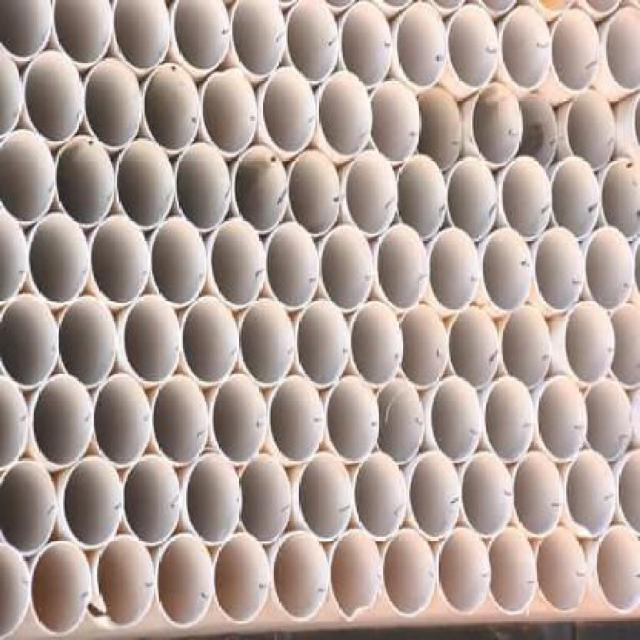pipe: (31, 375, 93, 468), (23, 51, 85, 144), (0, 294, 59, 391), (94, 536, 154, 630), (31, 542, 91, 636), (62, 457, 122, 550), (0, 458, 56, 556), (83, 58, 142, 151), (54, 136, 114, 227), (28, 214, 88, 305), (122, 456, 182, 547), (93, 375, 151, 468), (115, 139, 174, 230), (89, 216, 148, 307), (58, 297, 117, 388), (142, 63, 201, 154), (149, 217, 206, 310), (185, 454, 242, 547), (174, 143, 231, 234), (123, 296, 180, 387), (151, 376, 208, 467), (271, 531, 328, 622), (213, 534, 270, 625), (157, 534, 212, 628), (209, 219, 265, 310), (1, 129, 54, 225), (182, 297, 239, 386), (239, 300, 296, 388), (209, 375, 266, 463), (232, 146, 288, 234), (268, 375, 324, 463), (380, 531, 436, 619), (260, 68, 316, 156), (201, 69, 257, 157), (296, 299, 350, 390), (237, 454, 291, 545), (297, 453, 352, 542), (328, 529, 381, 620), (266, 222, 320, 311), (320, 225, 374, 314), (326, 375, 380, 463), (394, 3, 448, 91), (354, 452, 408, 540), (317, 73, 372, 159), (428, 375, 481, 463), (409, 452, 462, 540), (339, 2, 393, 88), (437, 530, 491, 616), (285, 0, 339, 85), (289, 151, 342, 237), (345, 151, 398, 237), (351, 302, 404, 388), (535, 528, 588, 614), (469, 84, 523, 168), (377, 225, 430, 310), (480, 228, 533, 313), (532, 228, 585, 313), (446, 5, 499, 90), (460, 452, 513, 537), (169, 0, 229, 75), (483, 375, 534, 463), (565, 449, 616, 537), (563, 302, 616, 385), (585, 226, 636, 312), (536, 377, 587, 463), (499, 5, 550, 91), (371, 80, 422, 166), (446, 157, 497, 242), (500, 306, 551, 391), (512, 451, 563, 536), (551, 9, 602, 94), (488, 528, 537, 616), (428, 228, 481, 309), (230, 0, 285, 78), (448, 306, 499, 389), (51, 0, 113, 68), (113, 0, 171, 72), (502, 155, 551, 240), (551, 155, 600, 240), (376, 379, 425, 464), (414, 88, 463, 173), (565, 91, 616, 171), (397, 157, 446, 240), (595, 525, 640, 614), (399, 306, 447, 389), (583, 380, 631, 462), (600, 159, 640, 240), (0, 0, 51, 62), (0, 543, 31, 639), (605, 7, 640, 92)
